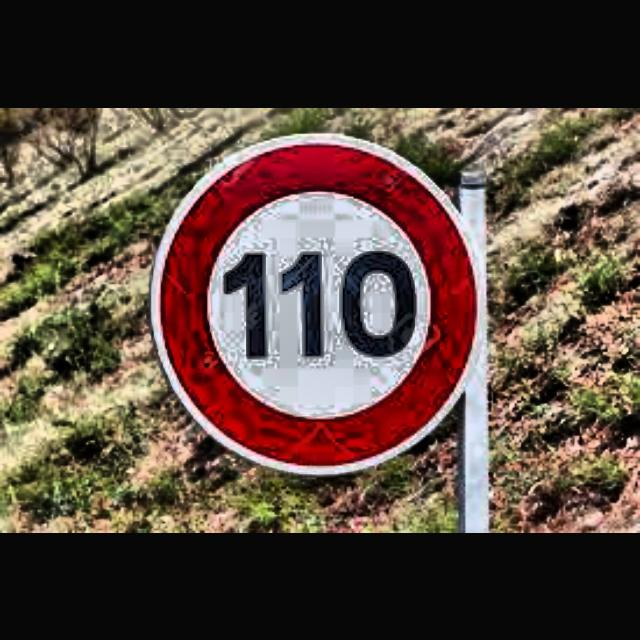speed_110: (160, 136, 480, 468)
